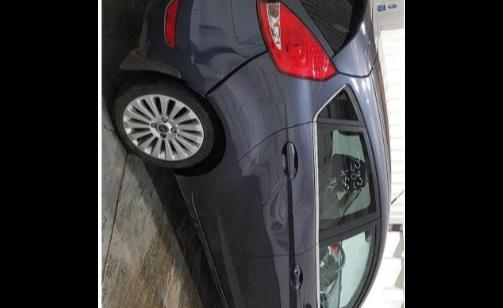Broken part: (200, 48, 268, 98)
